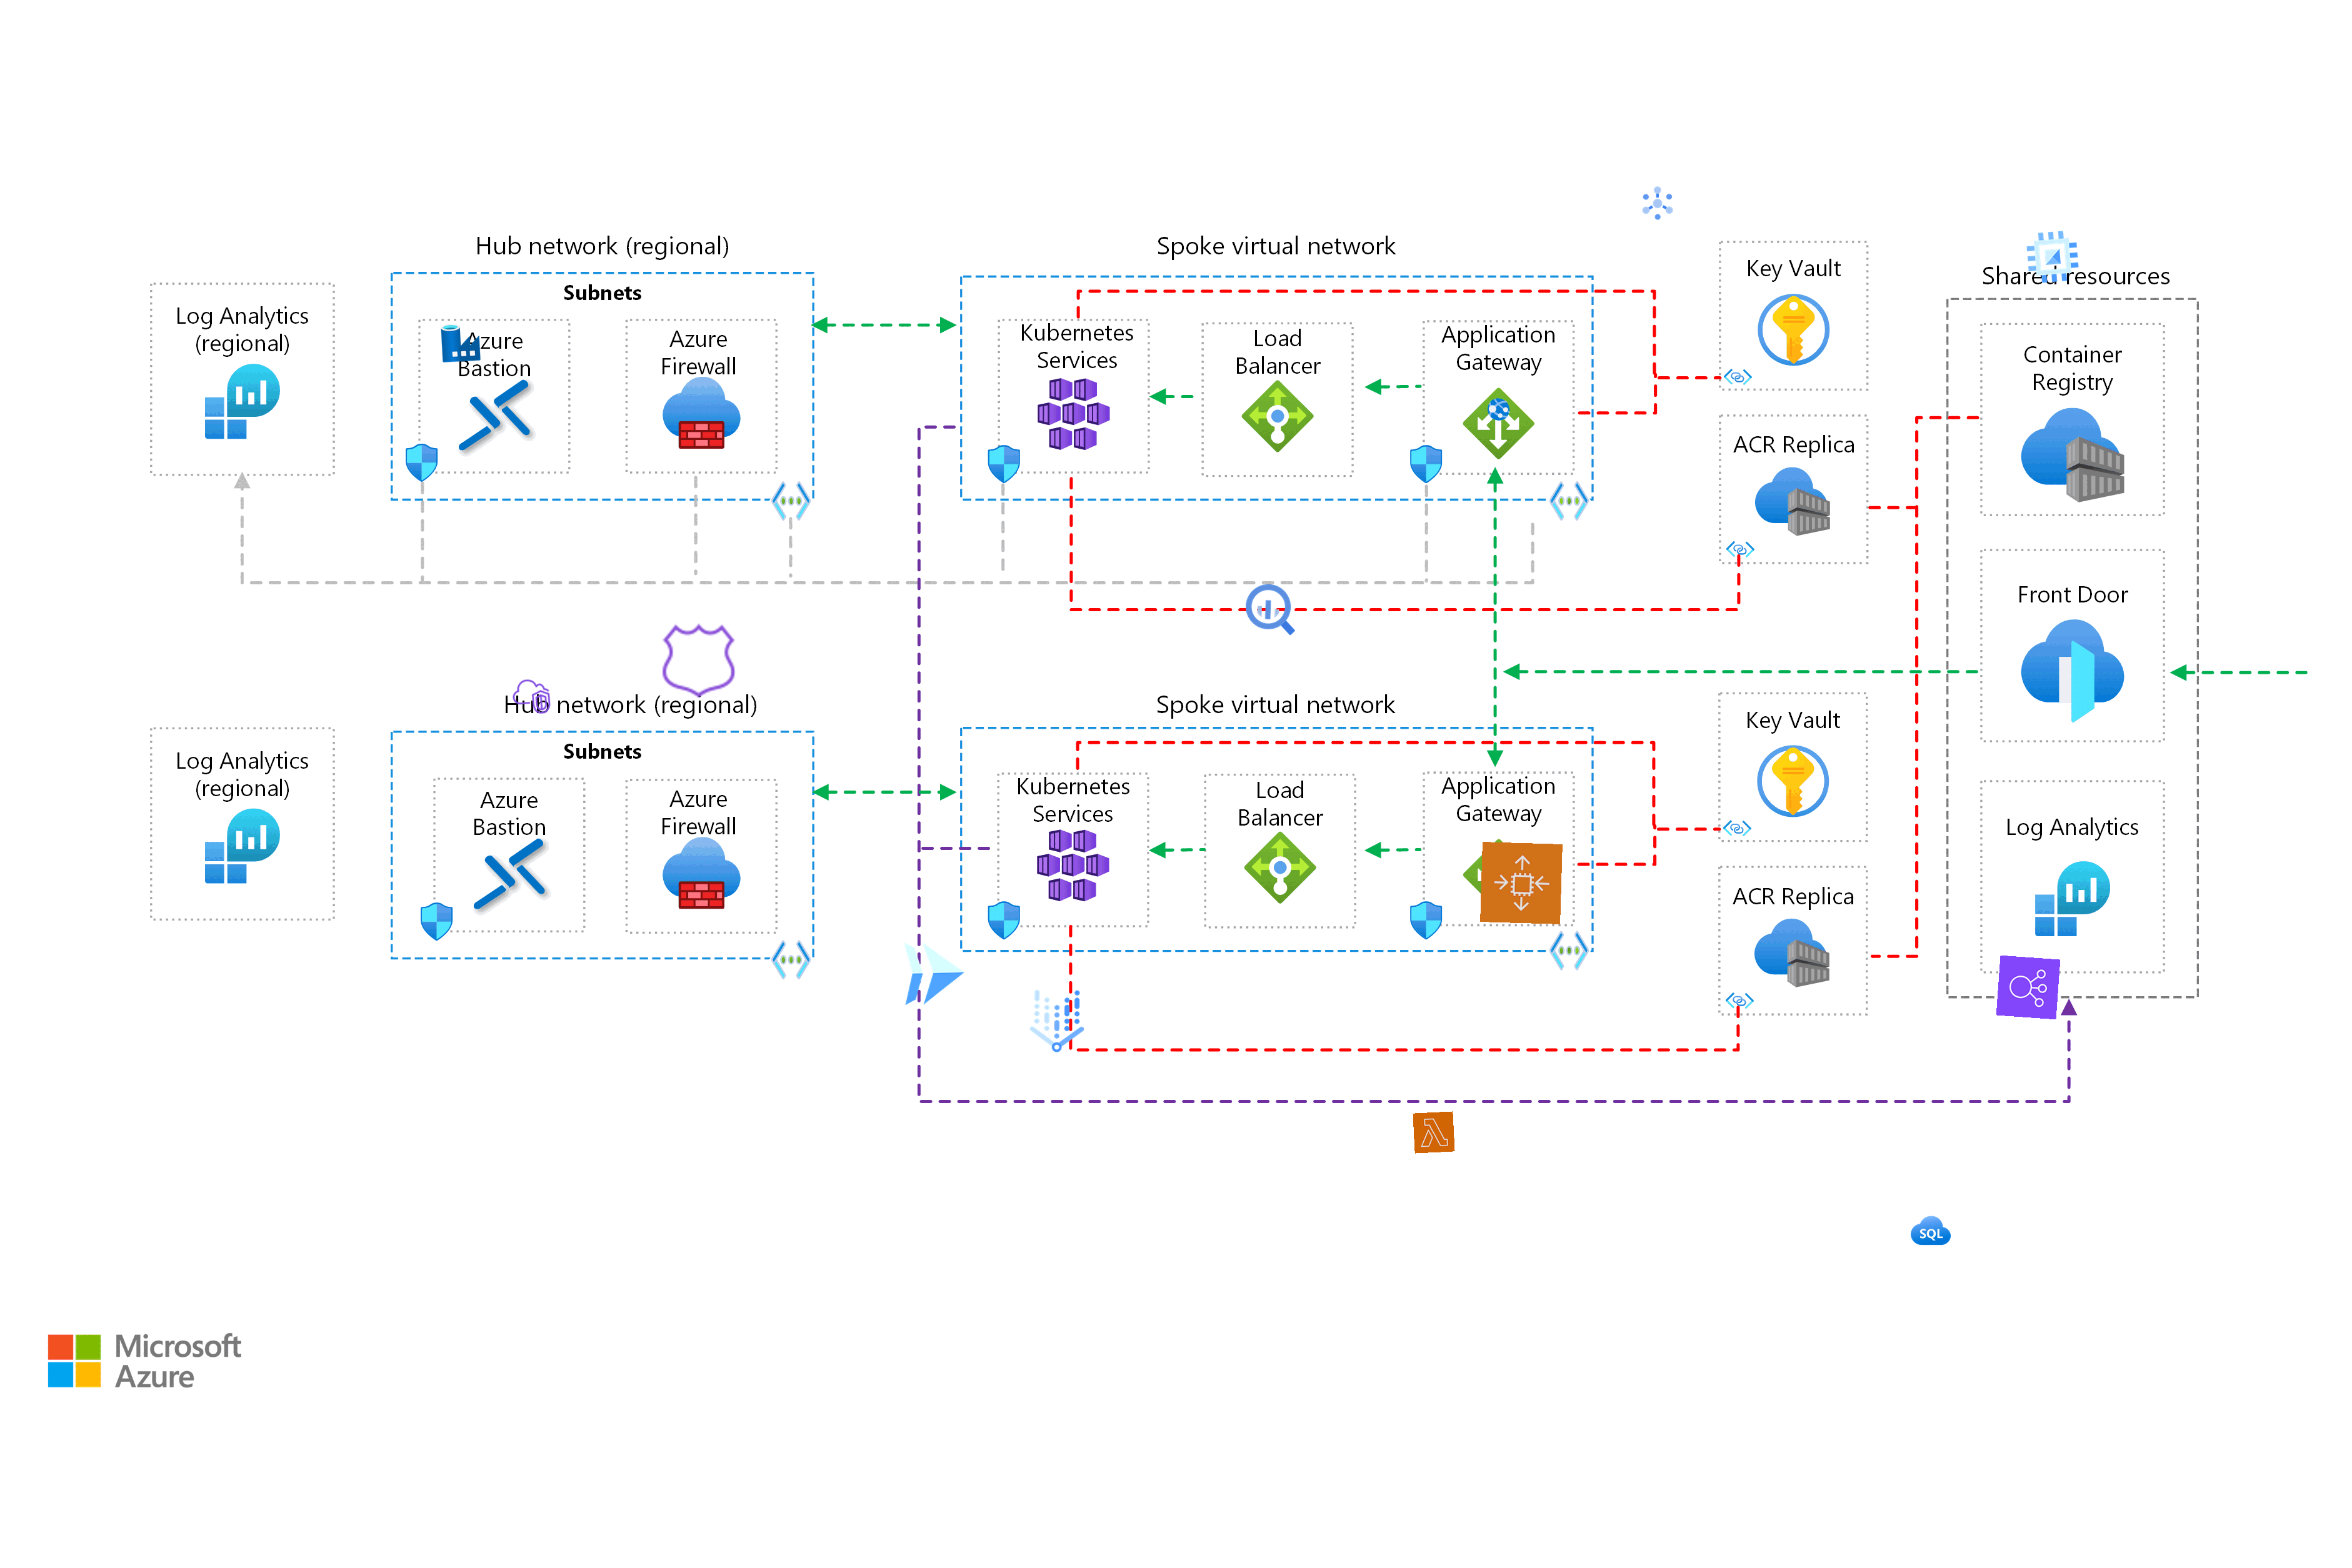aws_amazon_ec2_auto_scaling: (1480, 842, 1563, 924)
aws_elastic_load_balancing: (1995, 955, 2061, 1020)
aws_lambda: (1412, 1111, 1454, 1153)
aws_route_53_hosted_zone: (658, 619, 740, 702)
aws_vpc_virtual_private_cloud_vpc: (509, 675, 553, 719)
azure_data_factories: (439, 322, 481, 364)
azure_sql: (1909, 1211, 1951, 1251)
gcp_bigquery: (1239, 577, 1302, 640)
gcp_cloud_run: (893, 931, 975, 1015)
gcp_compute_engine: (2019, 224, 2084, 289)
gcp_pubsub: (1636, 182, 1678, 224)
gcp_vertex_ai: (1017, 980, 1097, 1062)
